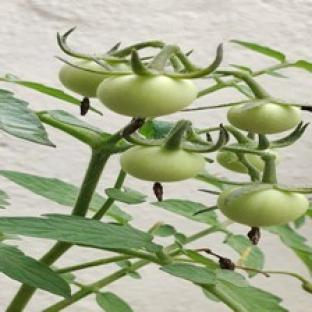Tomato: (98, 74, 197, 116), (218, 187, 309, 227), (120, 147, 204, 182), (228, 104, 300, 133), (59, 60, 108, 97), (216, 151, 247, 174)
